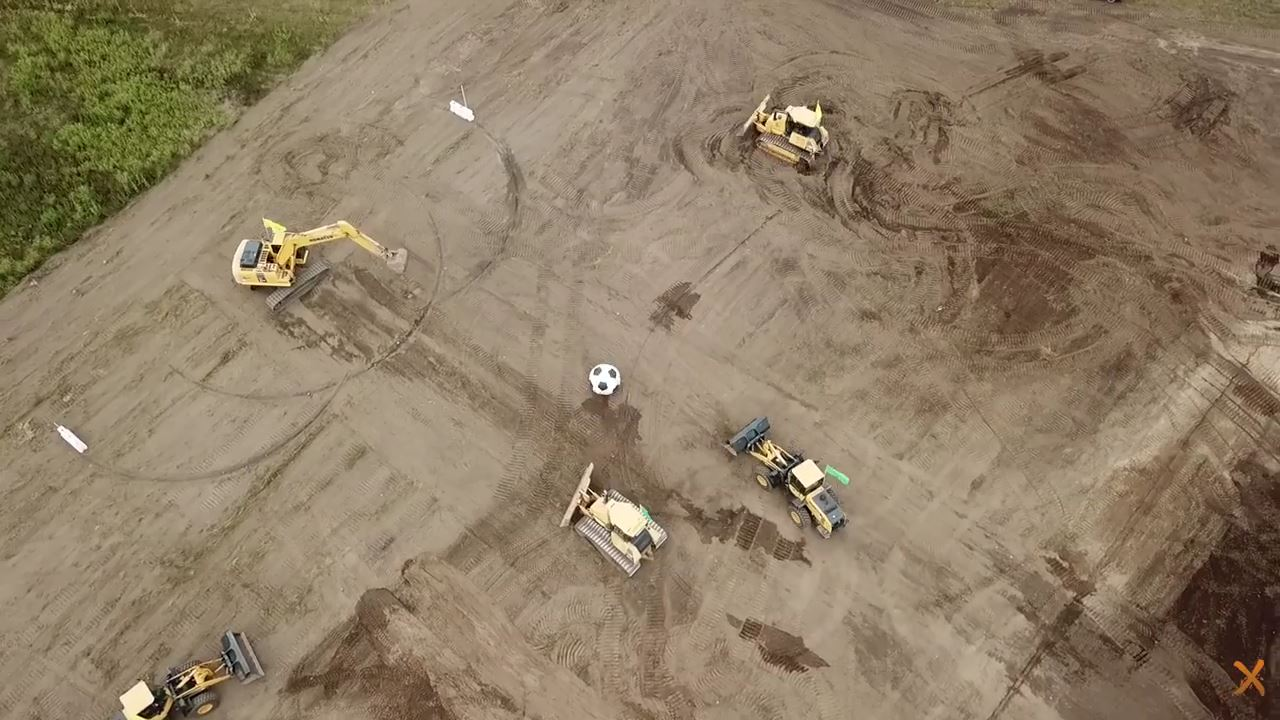con_eq: (226, 213, 414, 317), (715, 411, 851, 540), (557, 457, 670, 579), (116, 627, 267, 717), (735, 88, 833, 174)
